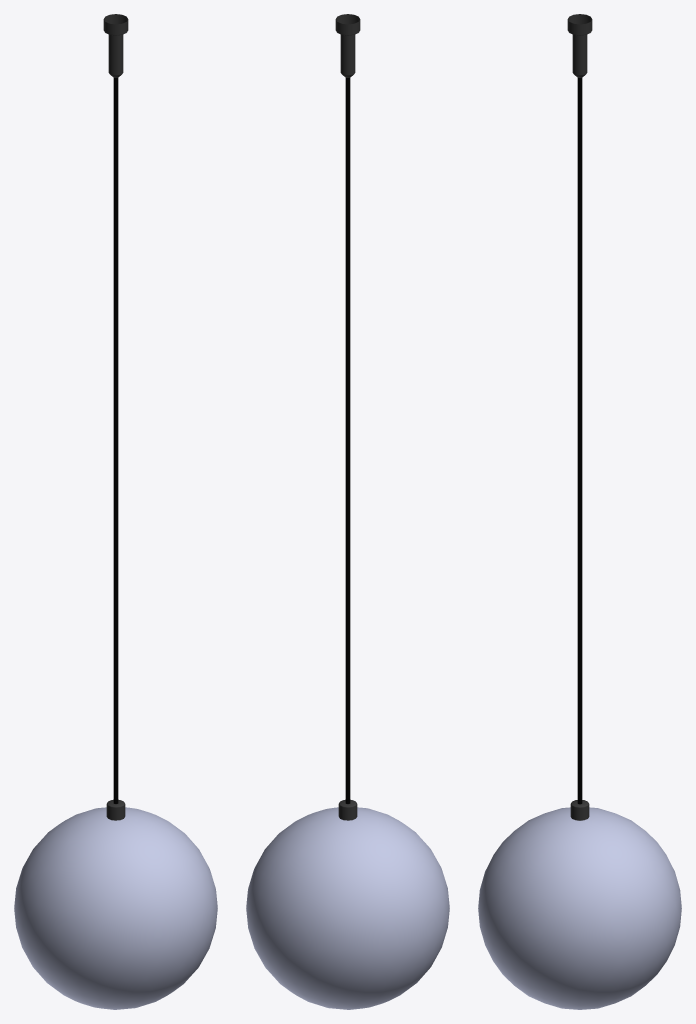
Rendered from SM_PendantLight_009e.FBX.
3 renders of one model, left to right at view 1: azimuth 30°, elevation 25°; view 2: azimuth 150°, elevation 25°; view 3: azimuth 270°, elevation 25°, orthographic.
Visible parts, largest first — view 1: SM_PendantLight_009e; view 2: SM_PendantLight_009e; view 3: SM_PendantLight_009e.
Part boxes in pixels (<box>): SM_PendantLight_009e: <box>14,14,217,1009</box>; SM_PendantLight_009e: <box>246,14,449,1009</box>; SM_PendantLight_009e: <box>478,14,681,1009</box>.
Bounding box in the file's own units: 26.46 × 26.61 × 141.
